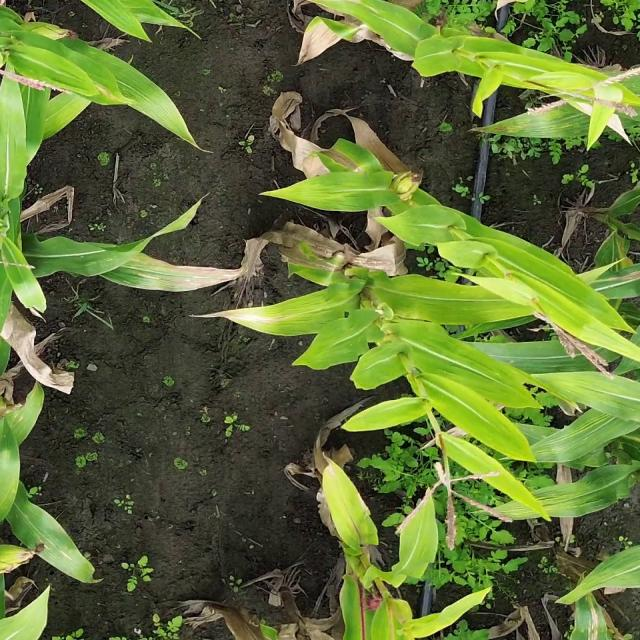gray-leaf-spot: (512, 108, 595, 140), (26, 522, 79, 566), (126, 262, 195, 294), (578, 599, 612, 640)
northern-leaf-blight: (225, 304, 323, 329), (290, 247, 347, 285), (312, 140, 372, 176), (600, 261, 640, 288)
